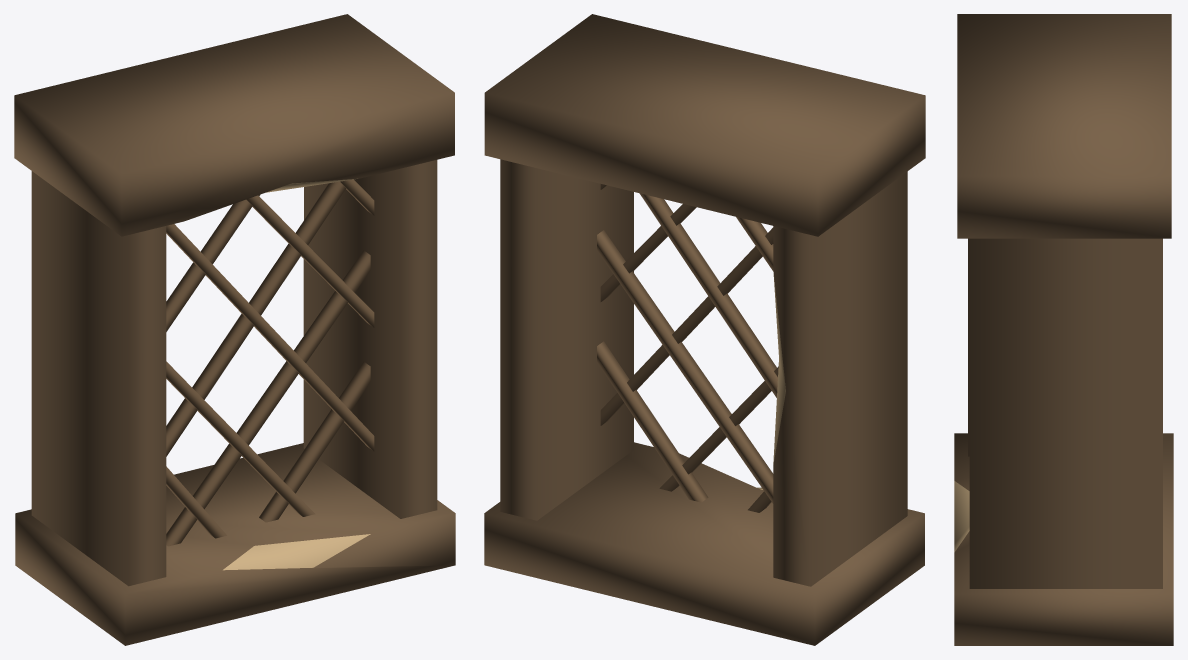
File: rpgpp_ag_window_04c.fbx
3 renders of one model, left to right at view 1: azimuth 30°, elevation 25°; view 2: azimuth 150°, elevation 25°; view 3: azimuth 270°, elevation 25°, orthographic.
Visible parts, largest first — view 1: rpgpp_ag_window_04c; view 2: rpgpp_ag_window_04c; view 3: rpgpp_ag_window_04c.
Part boxes in pixels (x1,y1,x2,y2): rpgpp_ag_window_04c: (14, 14, 455, 645); rpgpp_ag_window_04c: (484, 14, 925, 645); rpgpp_ag_window_04c: (954, 14, 1173, 645).
Size of the model in its own units: 0.9879 by 1.34 by 0.5651.
